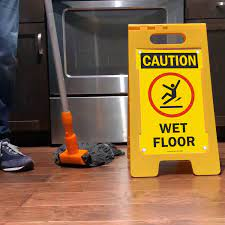wet caution sign: (126, 25, 225, 185)
